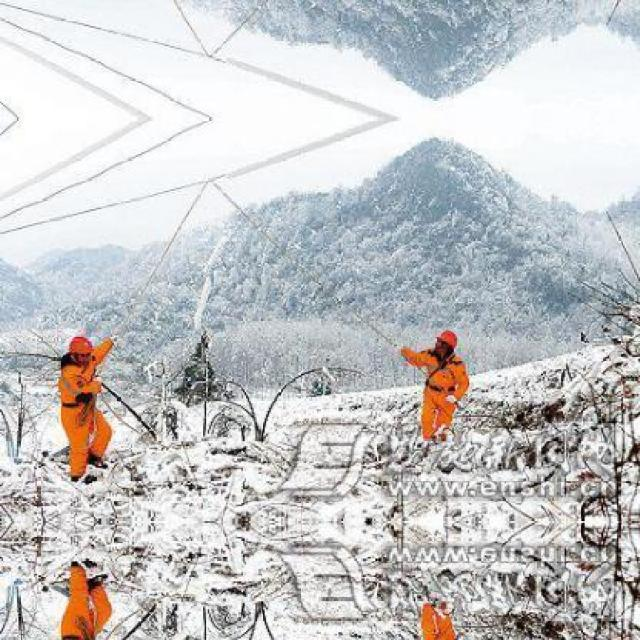helmet: (426, 320, 462, 354), (61, 328, 97, 360)
